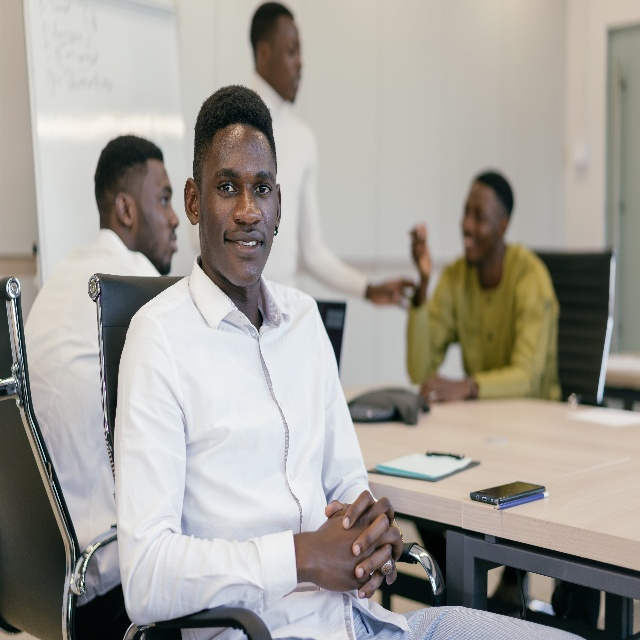Sin_guantes: (321, 496, 403, 593), (420, 368, 469, 406), (373, 274, 415, 306), (411, 221, 430, 275)
